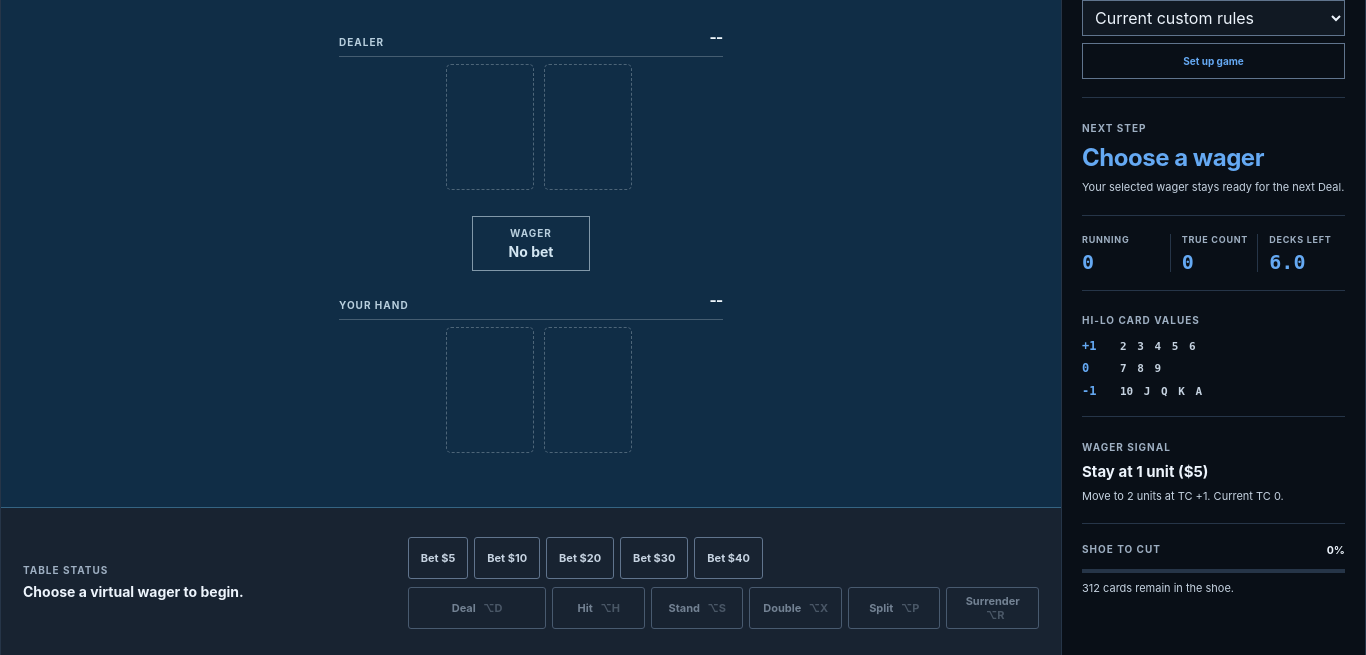
Test: BlackjackTable › celebrates a winning session before opening review
Click the button "Bet $5" at [438, 558], box [408, 537, 468, 579]
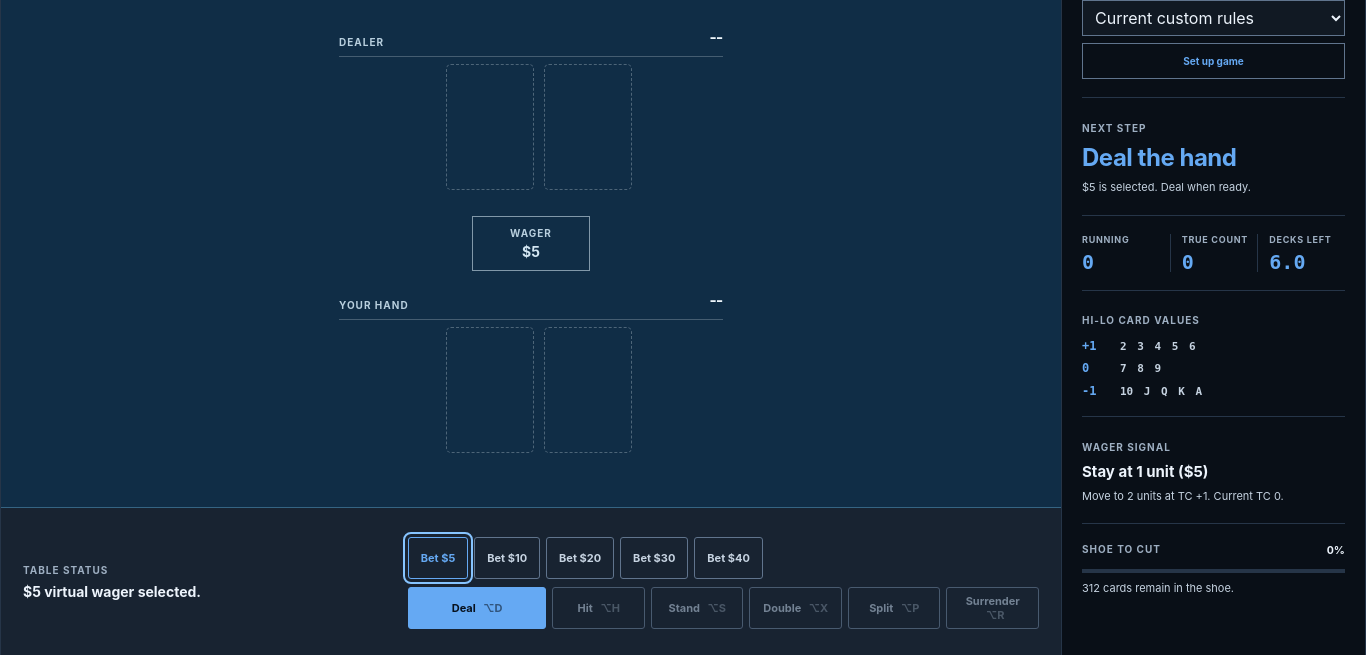
Click the button "Deal ⌥D" at [477, 608], box [408, 587, 546, 629]
(page scrolled)
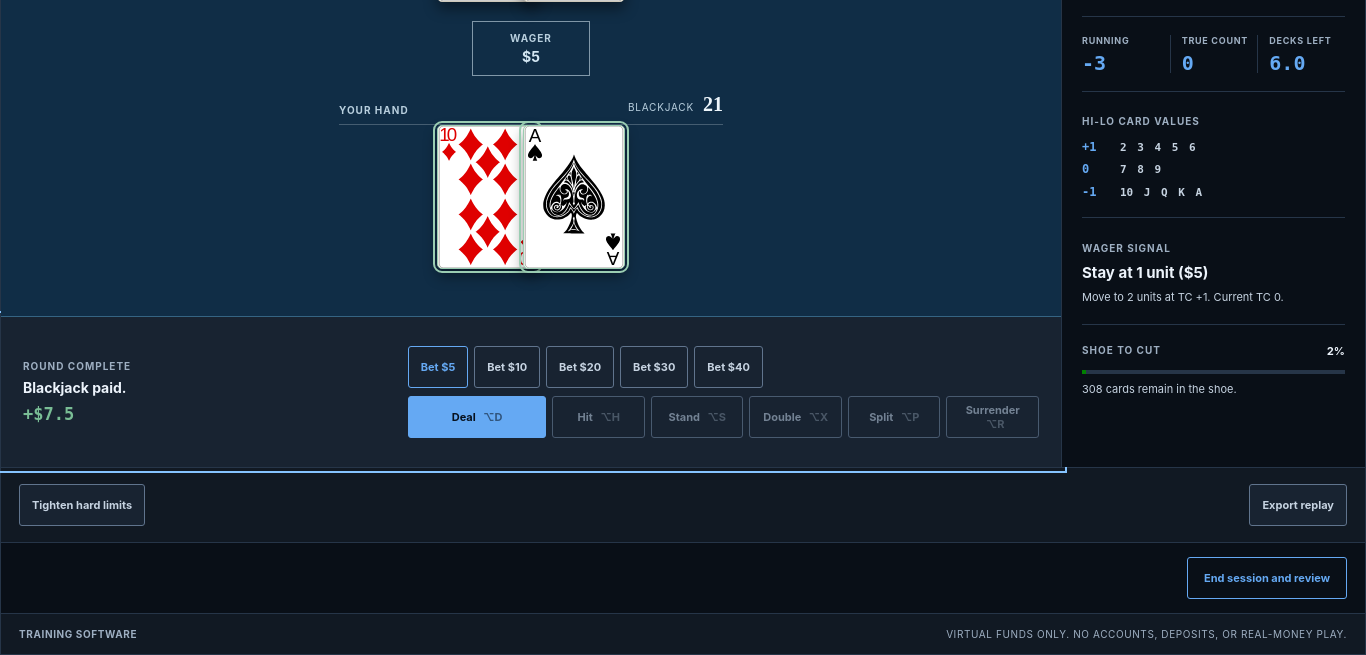
Click the button "End session and review" at [1267, 578], box [1187, 557, 1347, 599]
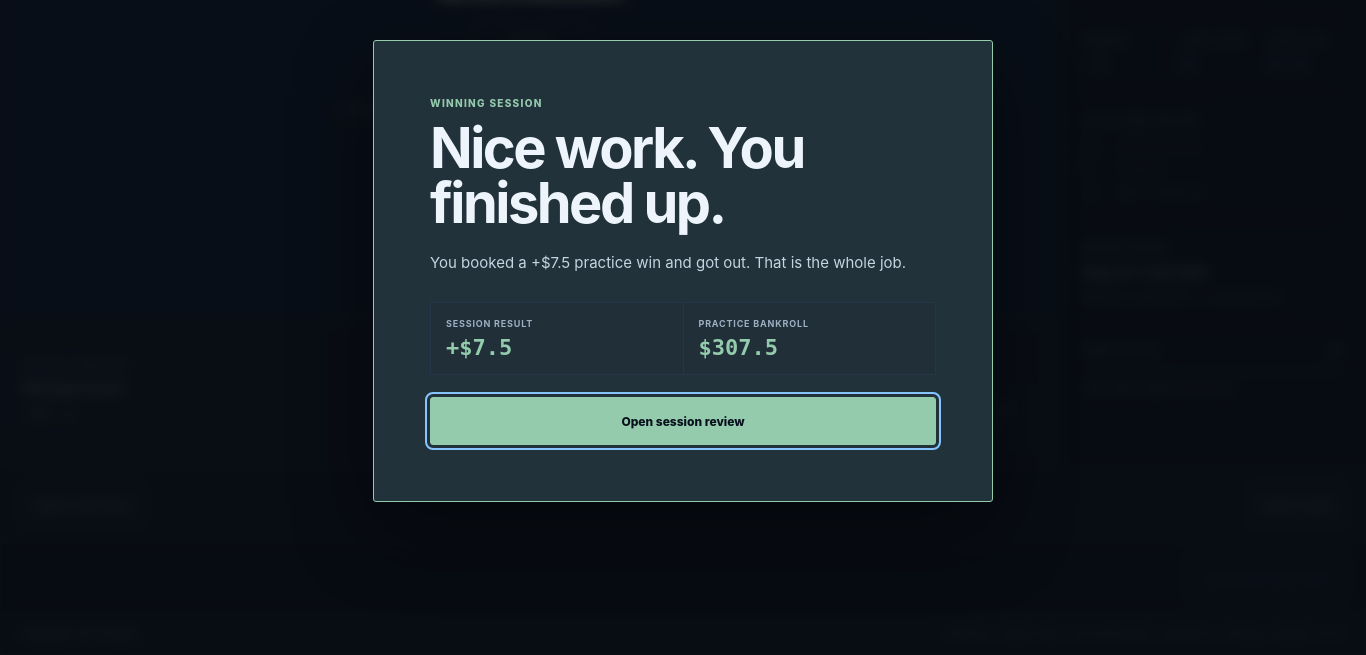
Check: the dialog "Nice work. You finished up." shows "Winning session", box [430, 97, 543, 109]
